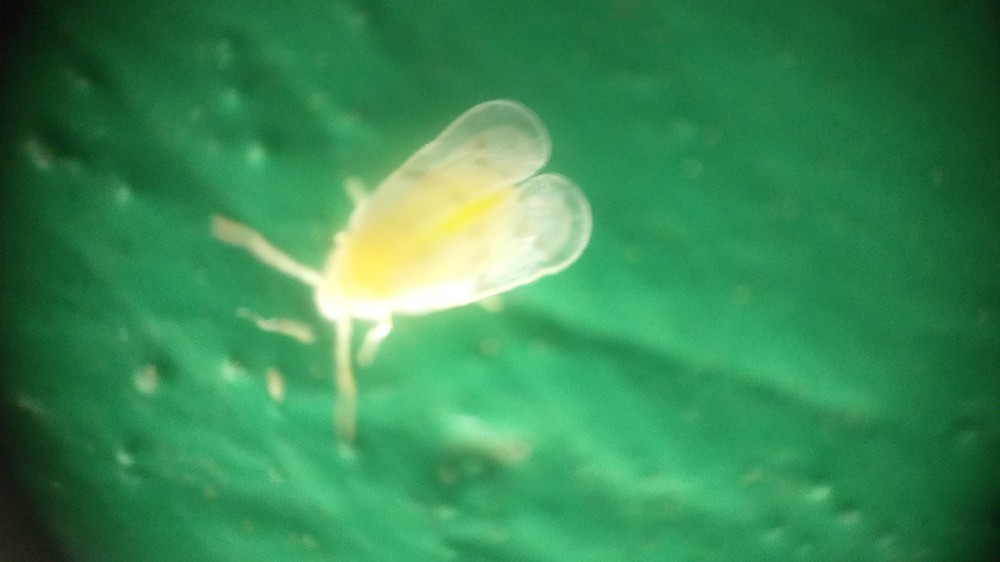Mosca Blanca: (201, 95, 615, 443)
